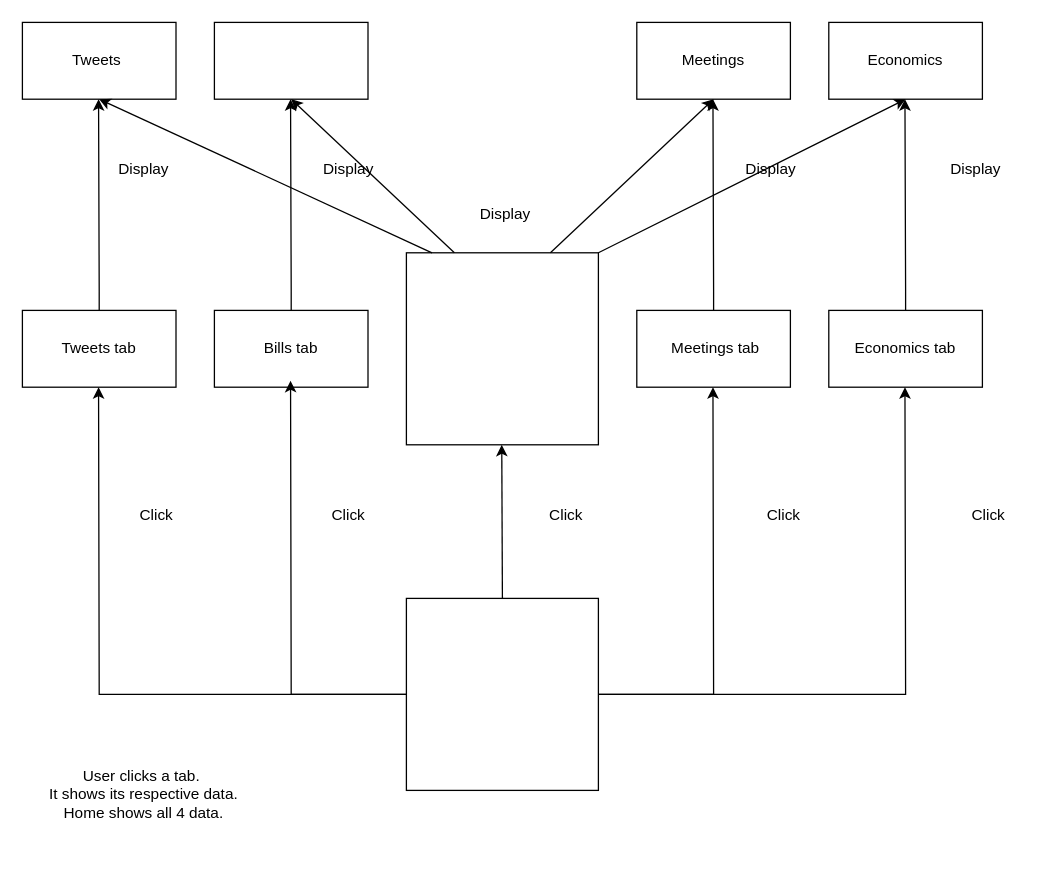
Image size: 1056x890. Some labels were removed from this diagram. Here are the shapes that lost their labels. From the top down, the centre of each, then its label:
At (x=290, y=60): "Bills".
At (x=501, y=348): "Home tab".
At (x=501, y=693): "User".
